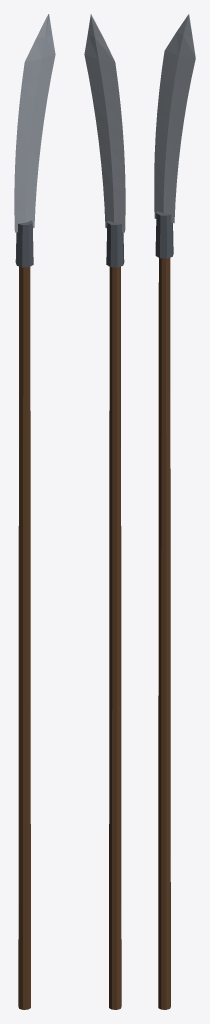
Rendered from g-glaive.glb.
3 renders of one model, left to right at view 1: azimuth 30°, elevation 25°; view 2: azimuth 150°, elevation 25°; view 3: azimuth 330°, elevation 25°, orthographic.
Parts seen in each view (by area): view 1: g-glaive; view 2: g-glaive; view 3: g-glaive.
Boxes of the visible parts, x1,y1,x2,y2 form: g-glaive: [14, 14, 55, 1009]; g-glaive: [84, 14, 125, 1009]; g-glaive: [154, 14, 195, 1009].
Bounding box in the file's own units: 0.1025 × 2.35 × 0.04.
